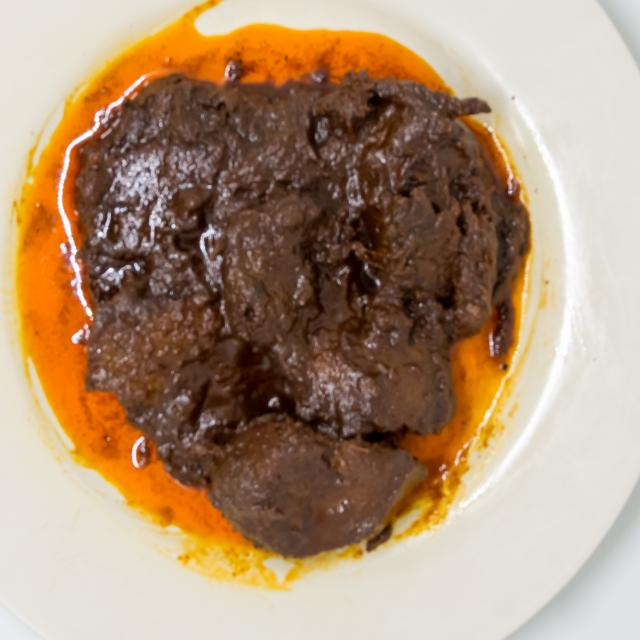Rendang: (51, 56, 546, 563)
